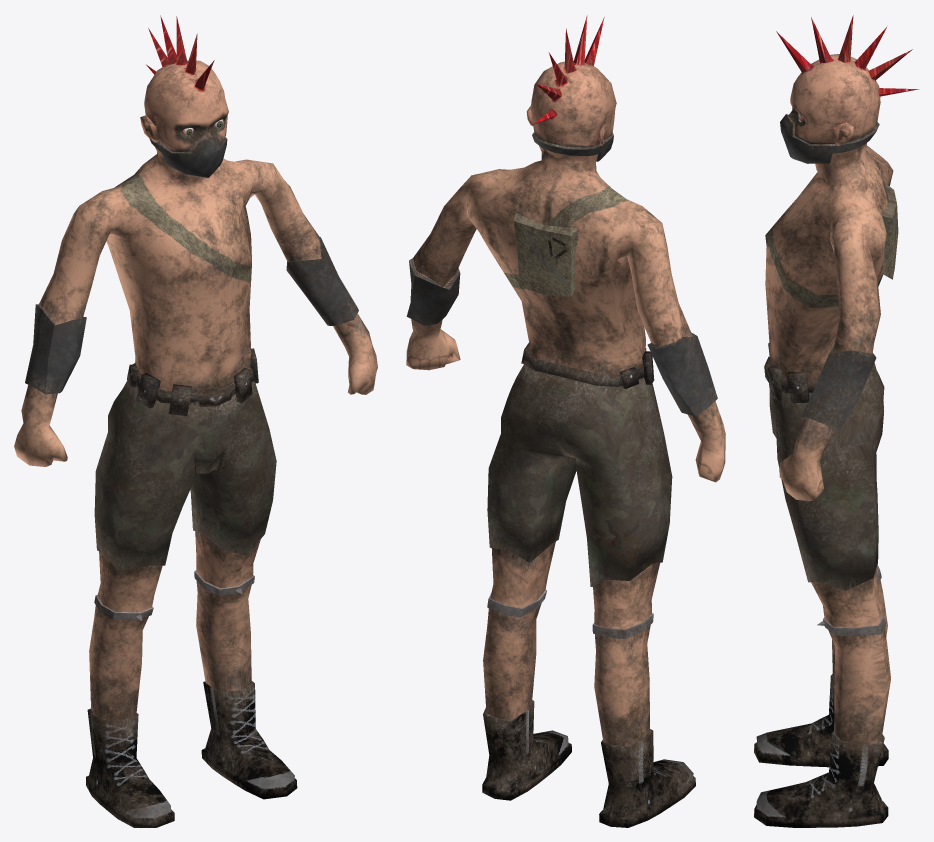
The model's file is Anim_idle_npc2.0016.obj.
The picture shows the model from 3 angles, left to right: view 1: azimuth 30°, elevation 25°; view 2: azimuth 150°, elevation 25°; view 3: azimuth 270°, elevation 25°; orthographic projection.
Visible parts, largest first — view 1: polySurface1; view 2: polySurface1; view 3: polySurface1.
Boxes of the visible parts, <box> form: polySurface1: <box>14,15,377,827</box>; polySurface1: <box>406,15,725,827</box>; polySurface1: <box>754,15,919,827</box>.
Size of the model in its own units: 4.72 by 10.18 by 1.97.
